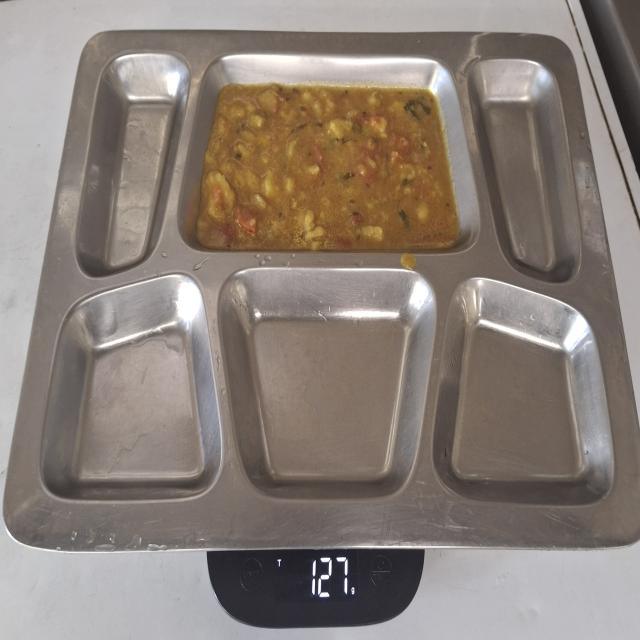Aloo Sabji: (196, 76, 459, 257)
